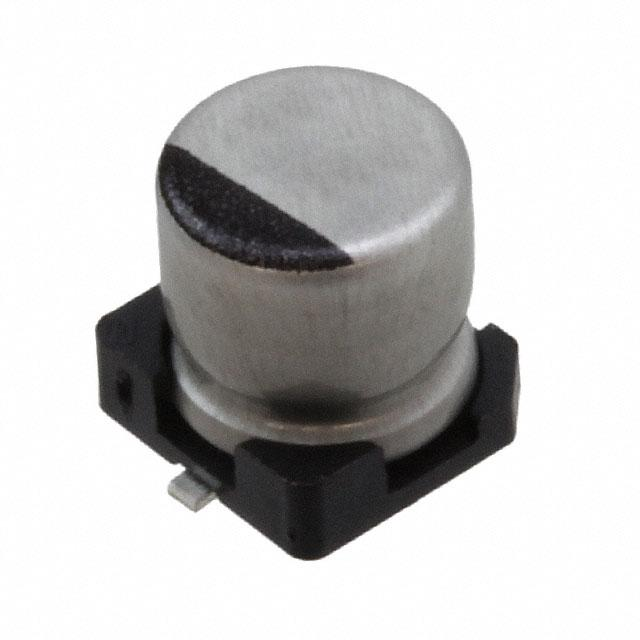Resistor: (157, 66, 517, 492)
